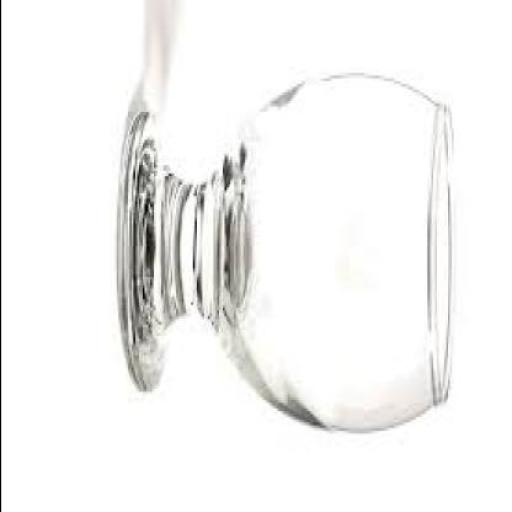glass: (117, 70, 454, 431)
